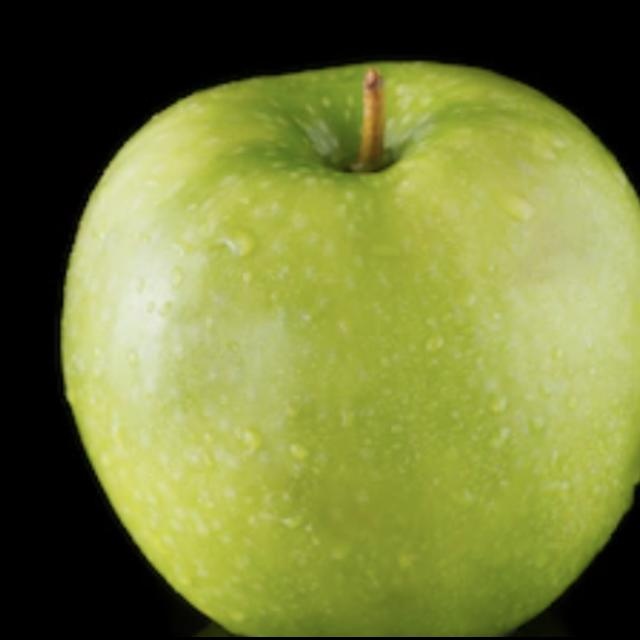Apel Segar: (58, 61, 640, 637)
